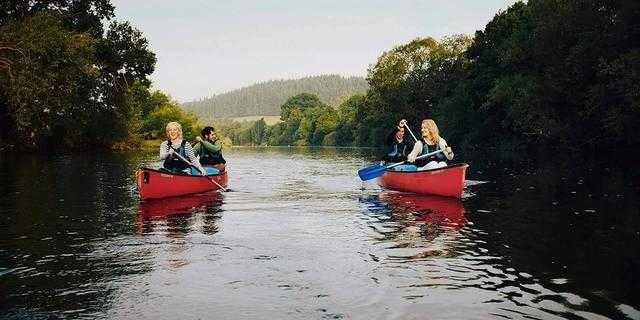kayak: (378, 161, 471, 198), (137, 164, 228, 200), (358, 162, 387, 181)
